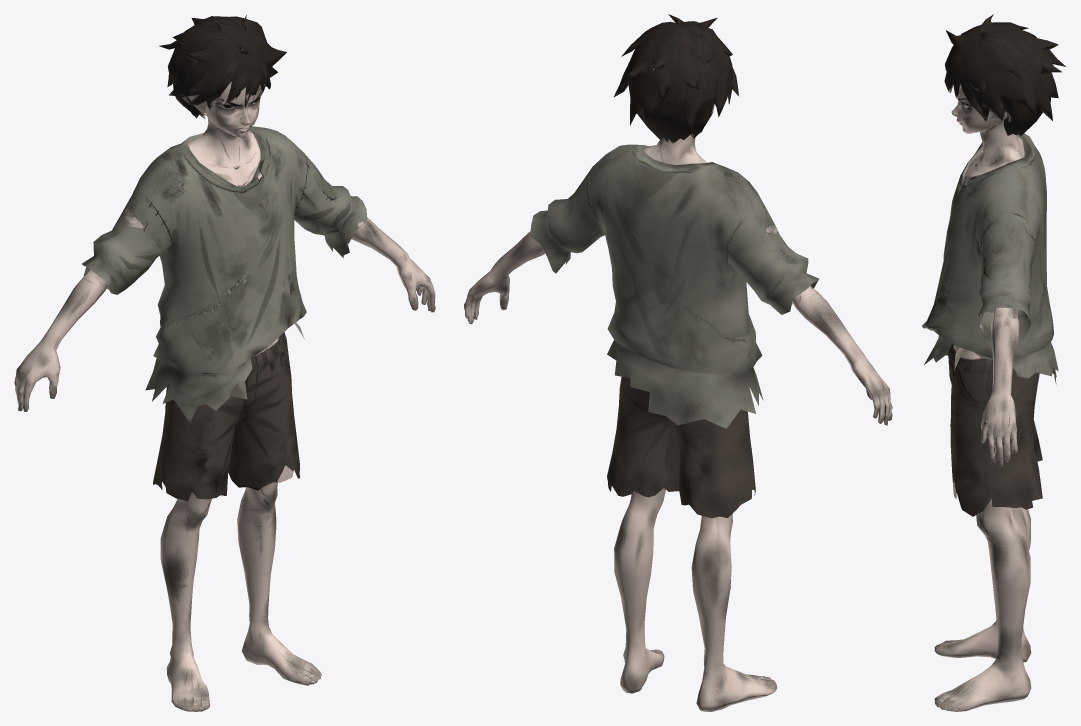
File: Meshy_AI_Ragged_Survivor_0915200521_texture.obj
3 renders of one model, left to right at view 1: azimuth 30°, elevation 25°; view 2: azimuth 150°, elevation 25°; view 3: azimuth 270°, elevation 25°, orthographic. The views are drawn at different scales.
Parts seen in each view (by area): view 1: Meshy_AI_Ragged_Survivor_0915200521_texture; view 2: Meshy_AI_Ragged_Survivor_0915200521_texture; view 3: Meshy_AI_Ragged_Survivor_0915200521_texture.
Part boxes in pixels (x1,y1,x2,y2): Meshy_AI_Ragged_Survivor_0915200521_texture: (14,15,435,711); Meshy_AI_Ragged_Survivor_0915200521_texture: (464,14,892,711); Meshy_AI_Ragged_Survivor_0915200521_texture: (922,14,1065,711).
Size of the model in its own units: 0.6562 by 1 by 0.2002.
